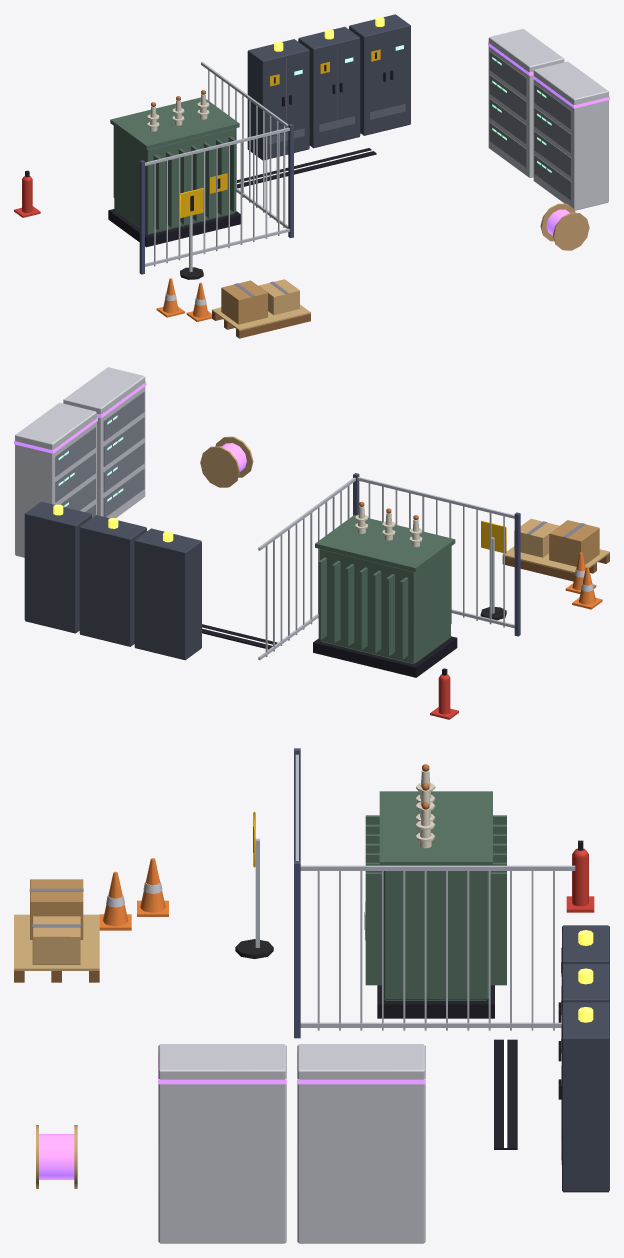
File: einrichtung_trafo.glb
The picture shows the model from 3 angles, top to bottom: view 1: azimuth 30°, elevation 25°; view 2: azimuth 150°, elevation 25°; view 3: azimuth 270°, elevation 25°; orthographic projection. The views are drawn at different scales.
Parts seen in each view (by area): view 1: einrichtung_trafo; view 2: einrichtung_trafo; view 3: einrichtung_trafo.
Boxes of the visible parts, bbox=[...] form: einrichtung_trafo: bbox=[14, 14, 609, 338]; einrichtung_trafo: bbox=[14, 367, 609, 719]; einrichtung_trafo: bbox=[14, 748, 609, 1243].
Size of the model in its own units: 7.65 by 2.06 by 5.58.
